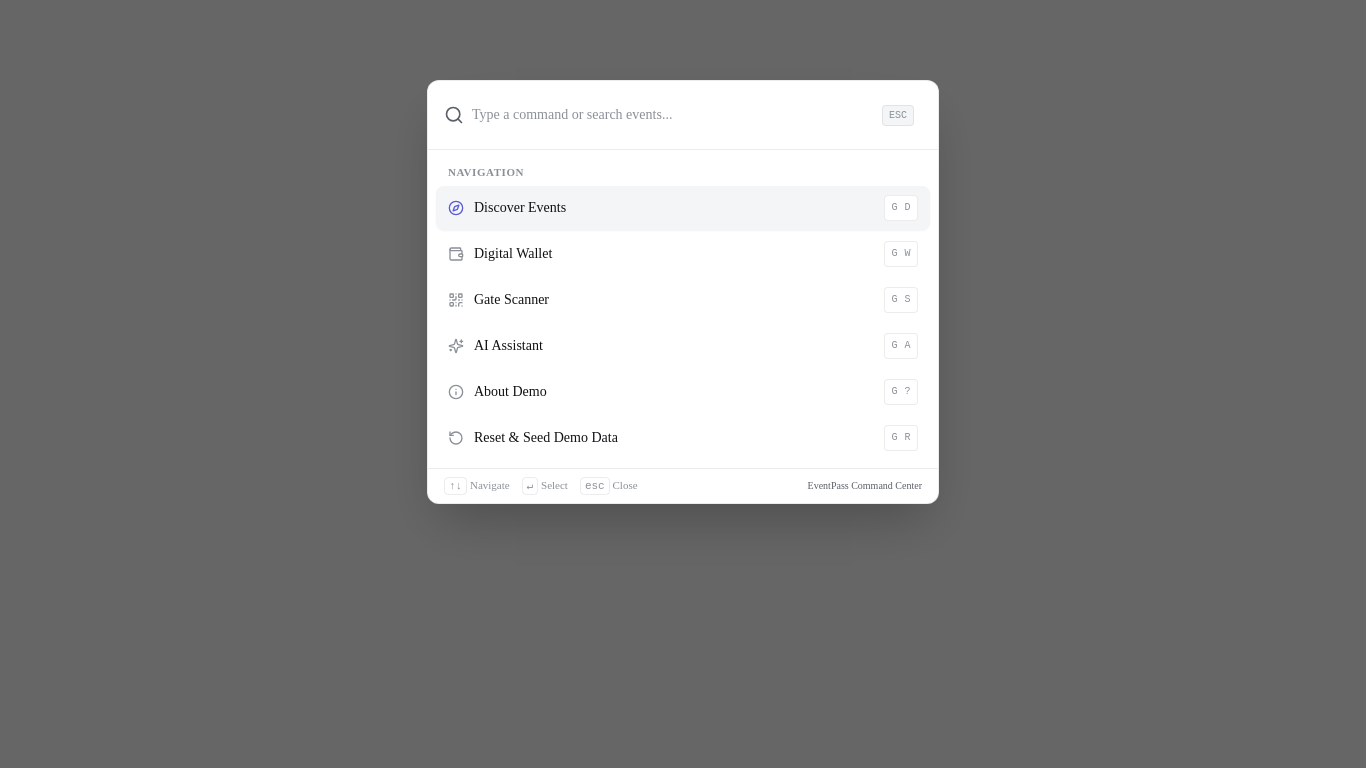
Test: CommandMenu Search & Navigation › shows empty state when no results match
Type "zzzzzzzz" into the field named "search events and pages". click: (671, 115)
box: [472,93,870,137]
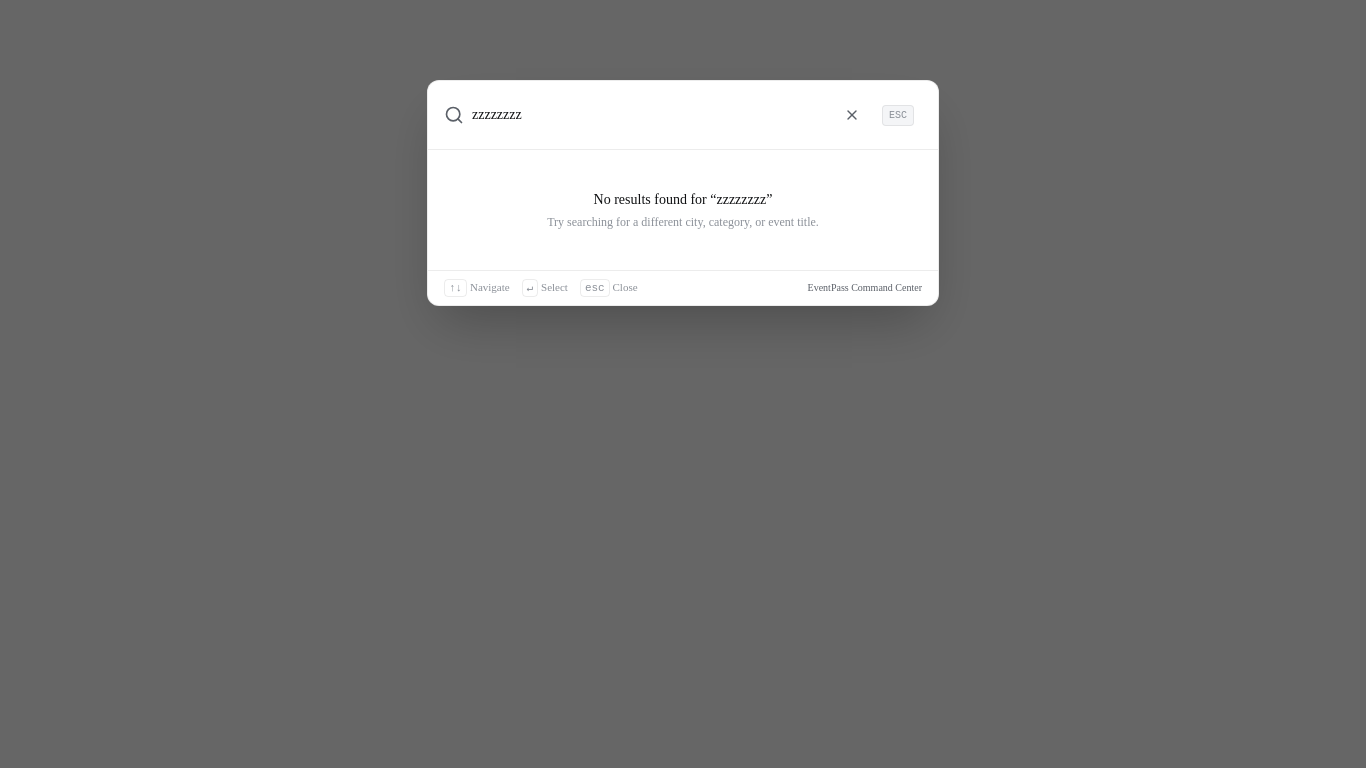
Check: the text "No results found for “zzzzzzzz”" is shown, box [594,192,772,207]
